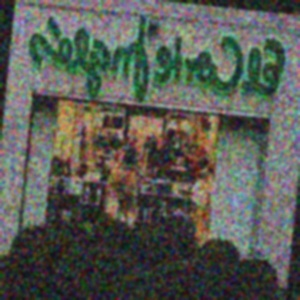corte_ingles: (276, 2, 300, 4)
